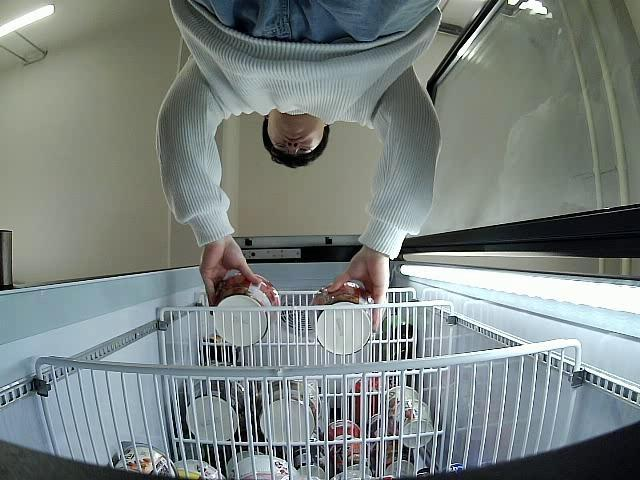01_ShinRamen_L: (211, 274, 282, 349), (311, 280, 375, 357)
